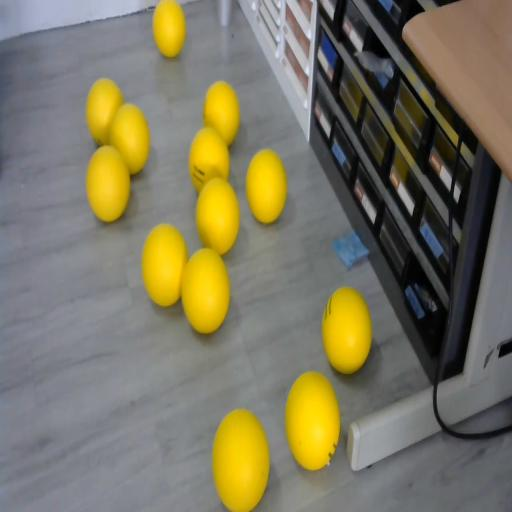FUEL: (212, 408, 270, 510), (284, 369, 340, 469), (180, 245, 231, 335), (322, 286, 372, 373), (140, 221, 189, 307), (194, 176, 240, 254), (86, 145, 130, 223), (245, 149, 287, 224), (86, 77, 124, 146), (203, 80, 240, 145), (152, 0, 186, 58)
